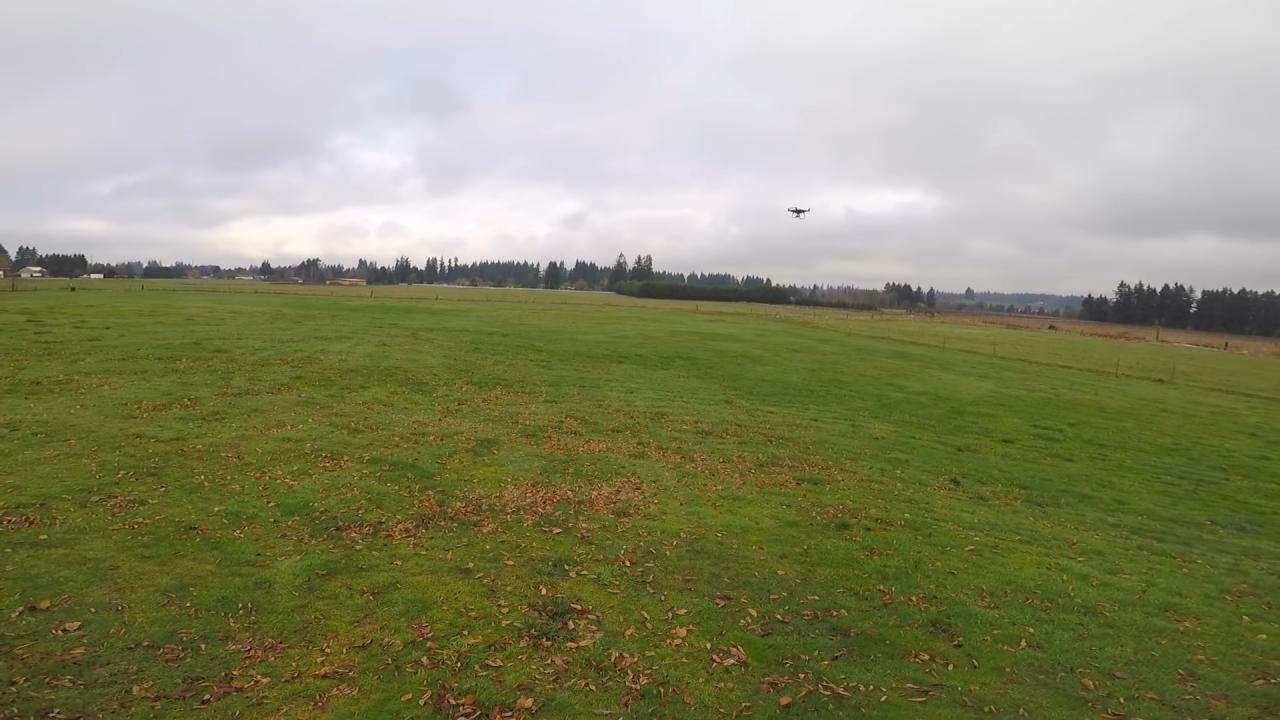Drone: (780, 199, 817, 223)
